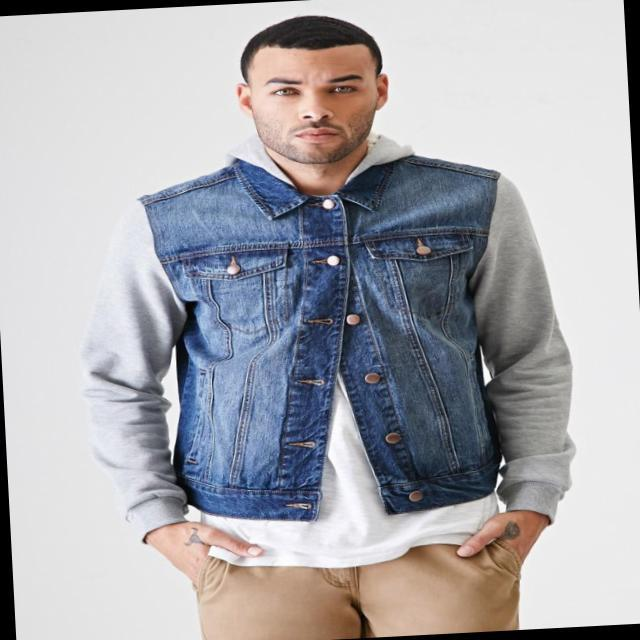jacket: (138, 143, 504, 526)
short sleeve shirt: (196, 377, 501, 567)
sweater: (74, 129, 594, 543)
trousers: (186, 533, 524, 640)
